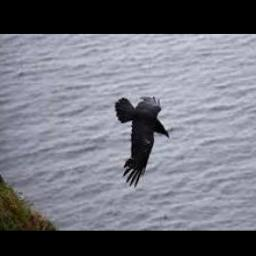Crow: (115, 94, 170, 188)
